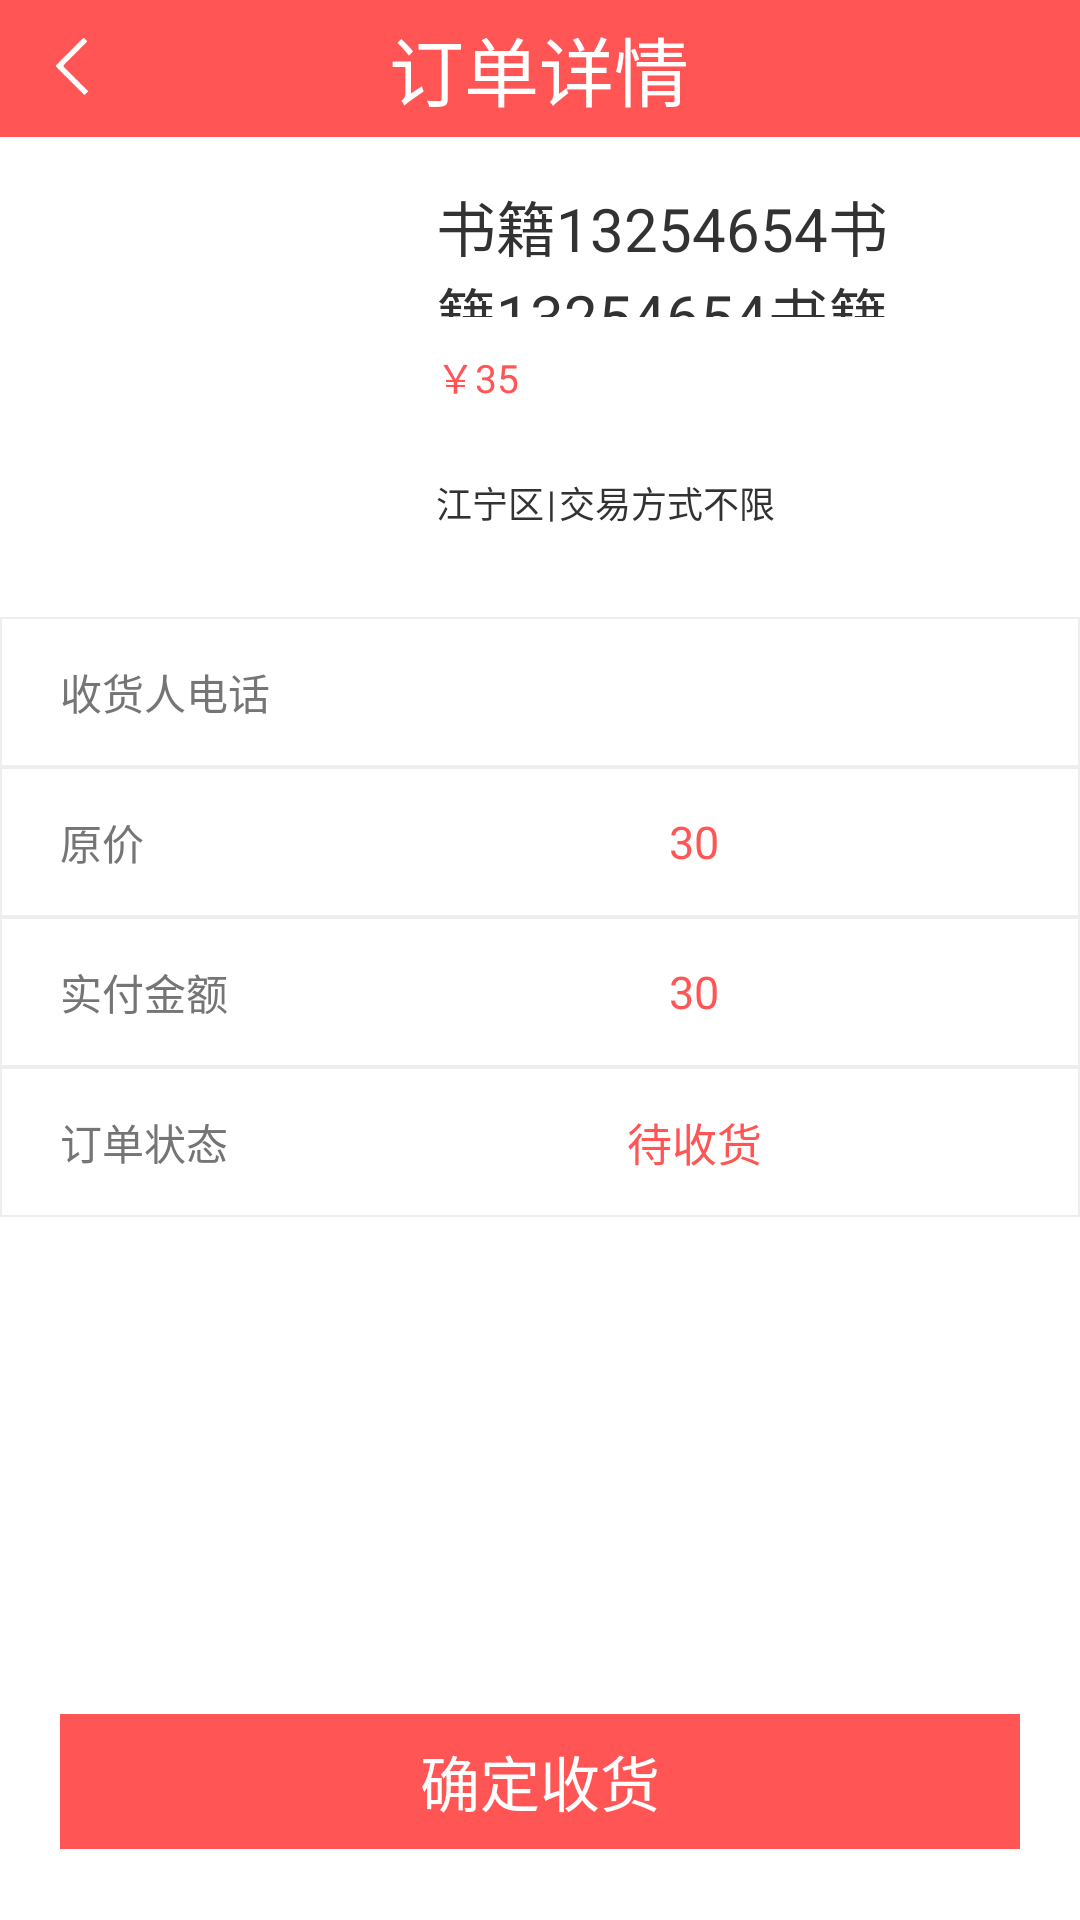

Point at icon controls on the screen. Image size 1080 x 1920, points as (x=x, y=y).
jiantou left: (x=72, y=66)
